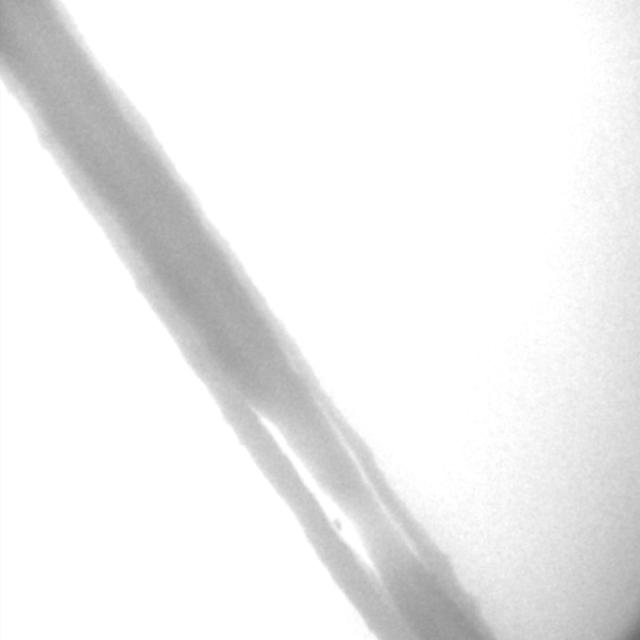unfused: (255, 405, 421, 576)
